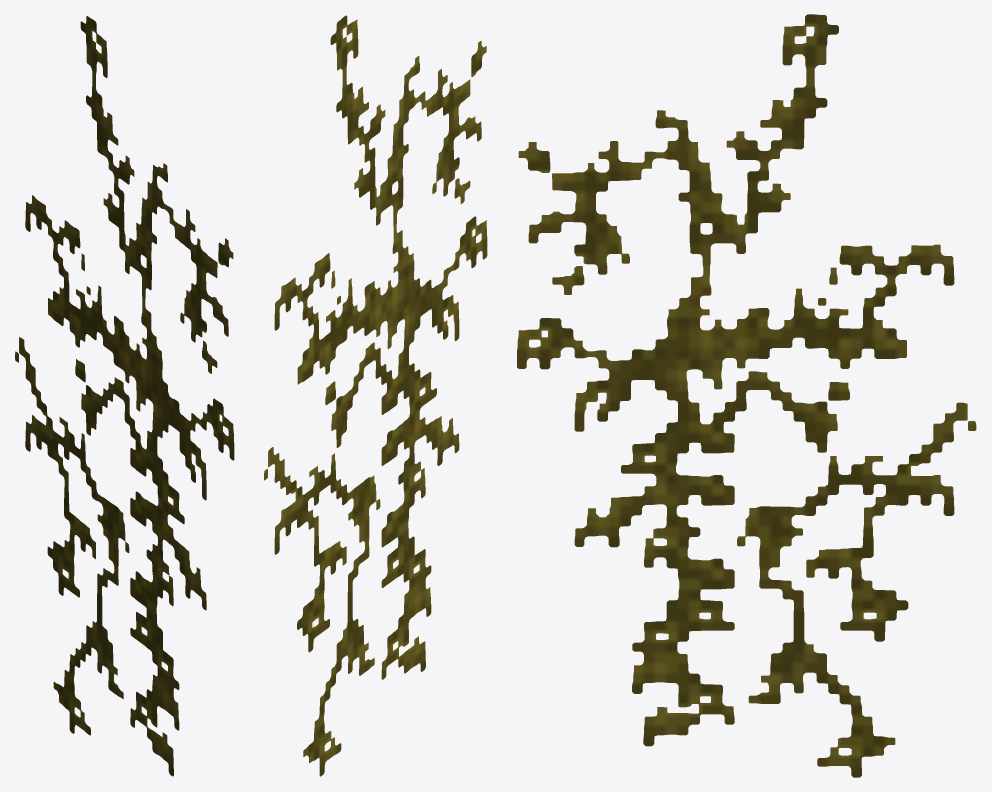
The model's file is ObjMD_Grass_D_ivyA.FBX.
The picture shows the model from 3 angles, left to right: view 1: azimuth 30°, elevation 25°; view 2: azimuth 150°, elevation 25°; view 3: azimuth 270°, elevation 25°; orthographic projection. The views are drawn at different scales.
Visible parts, largest first — view 1: ObjMD_Grass_D_ivyA; view 2: ObjMD_Grass_D_ivyA; view 3: ObjMD_Grass_D_ivyA.
Part boxes in pixels (bbox=[...]): ObjMD_Grass_D_ivyA: bbox=[15, 16, 234, 776]; ObjMD_Grass_D_ivyA: bbox=[264, 15, 487, 776]; ObjMD_Grass_D_ivyA: bbox=[517, 14, 976, 777].
Bounding box in the file's own units: 0 × 456 × 250.
